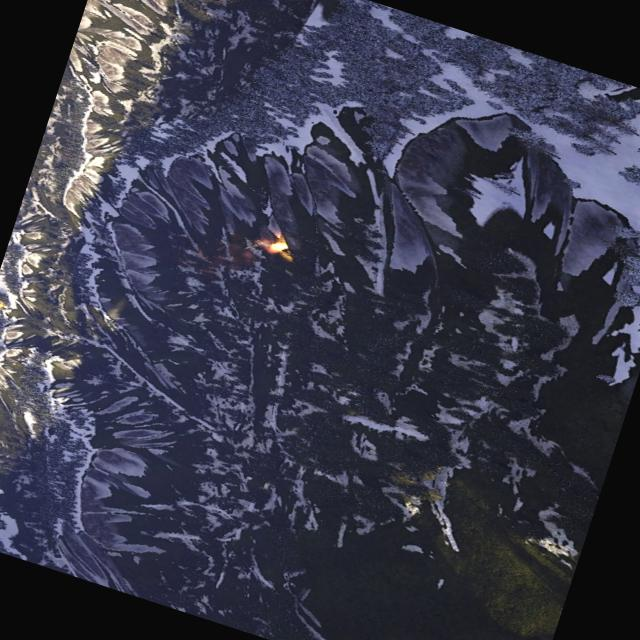fire: (264, 235, 294, 259), (0, 297, 3, 309)
smoke: (195, 222, 272, 282)
